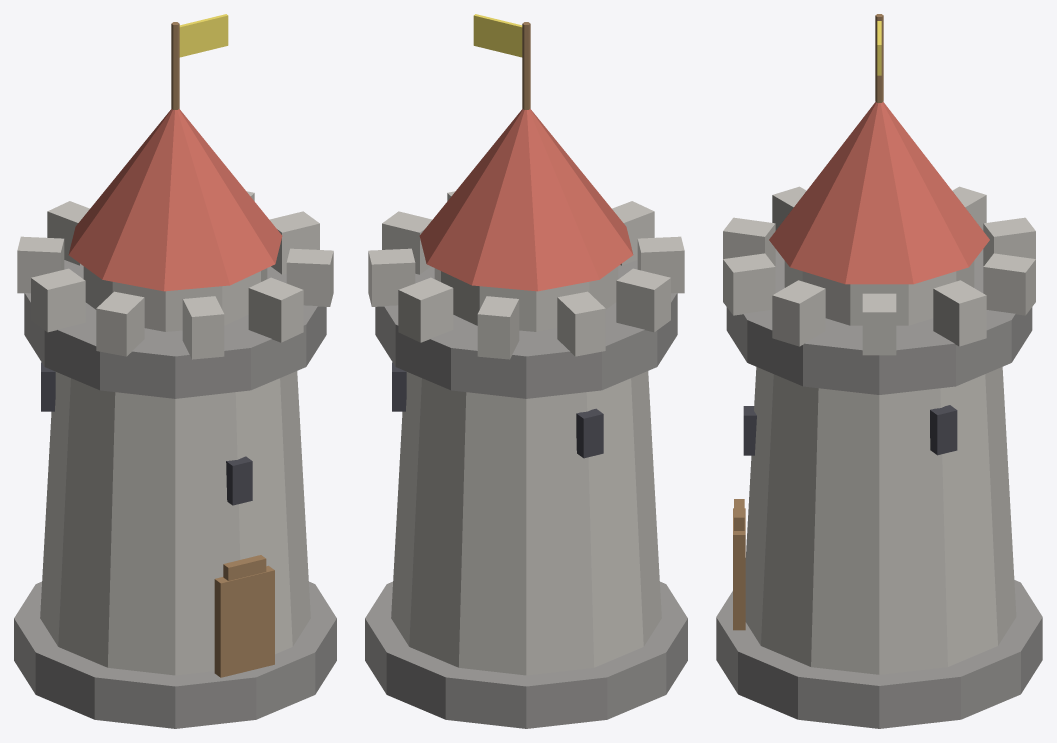
File: Tower.fbx
The picture shows the model from 3 angles, left to right: view 1: azimuth 30°, elevation 25°; view 2: azimuth 150°, elevation 25°; view 3: azimuth 270°, elevation 25°; orthographic projection.
Visible parts, largest first — view 1: Tower; view 2: Tower; view 3: Tower.
Part boxes in pixels (x1,y1,x2,y2): Tower: (14,14,336,728); Tower: (365,14,687,728); Tower: (716,14,1042,728).
Bounding box in the file's own units: 3.1 × 6.75 × 3.1.
